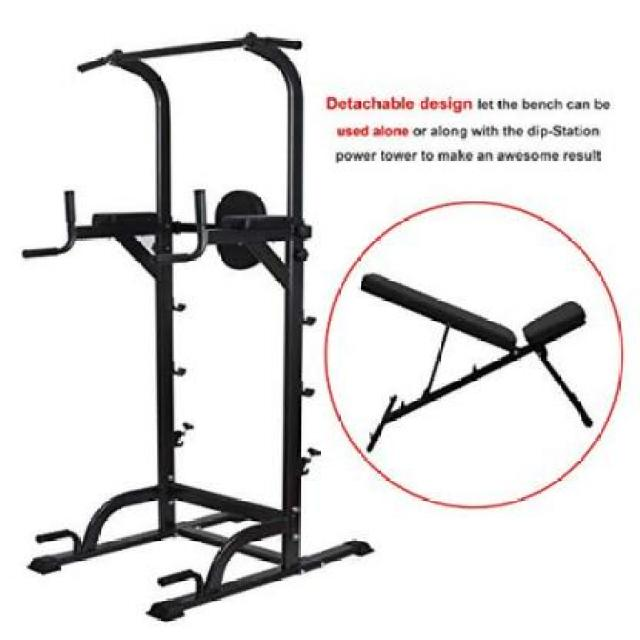chinning dipping: (25, 29, 322, 626)
